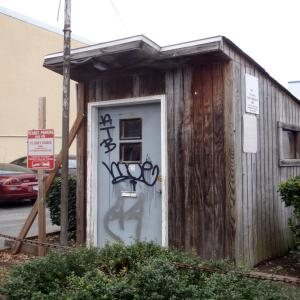Vehicle-registration-plate: (32, 186, 40, 193)
